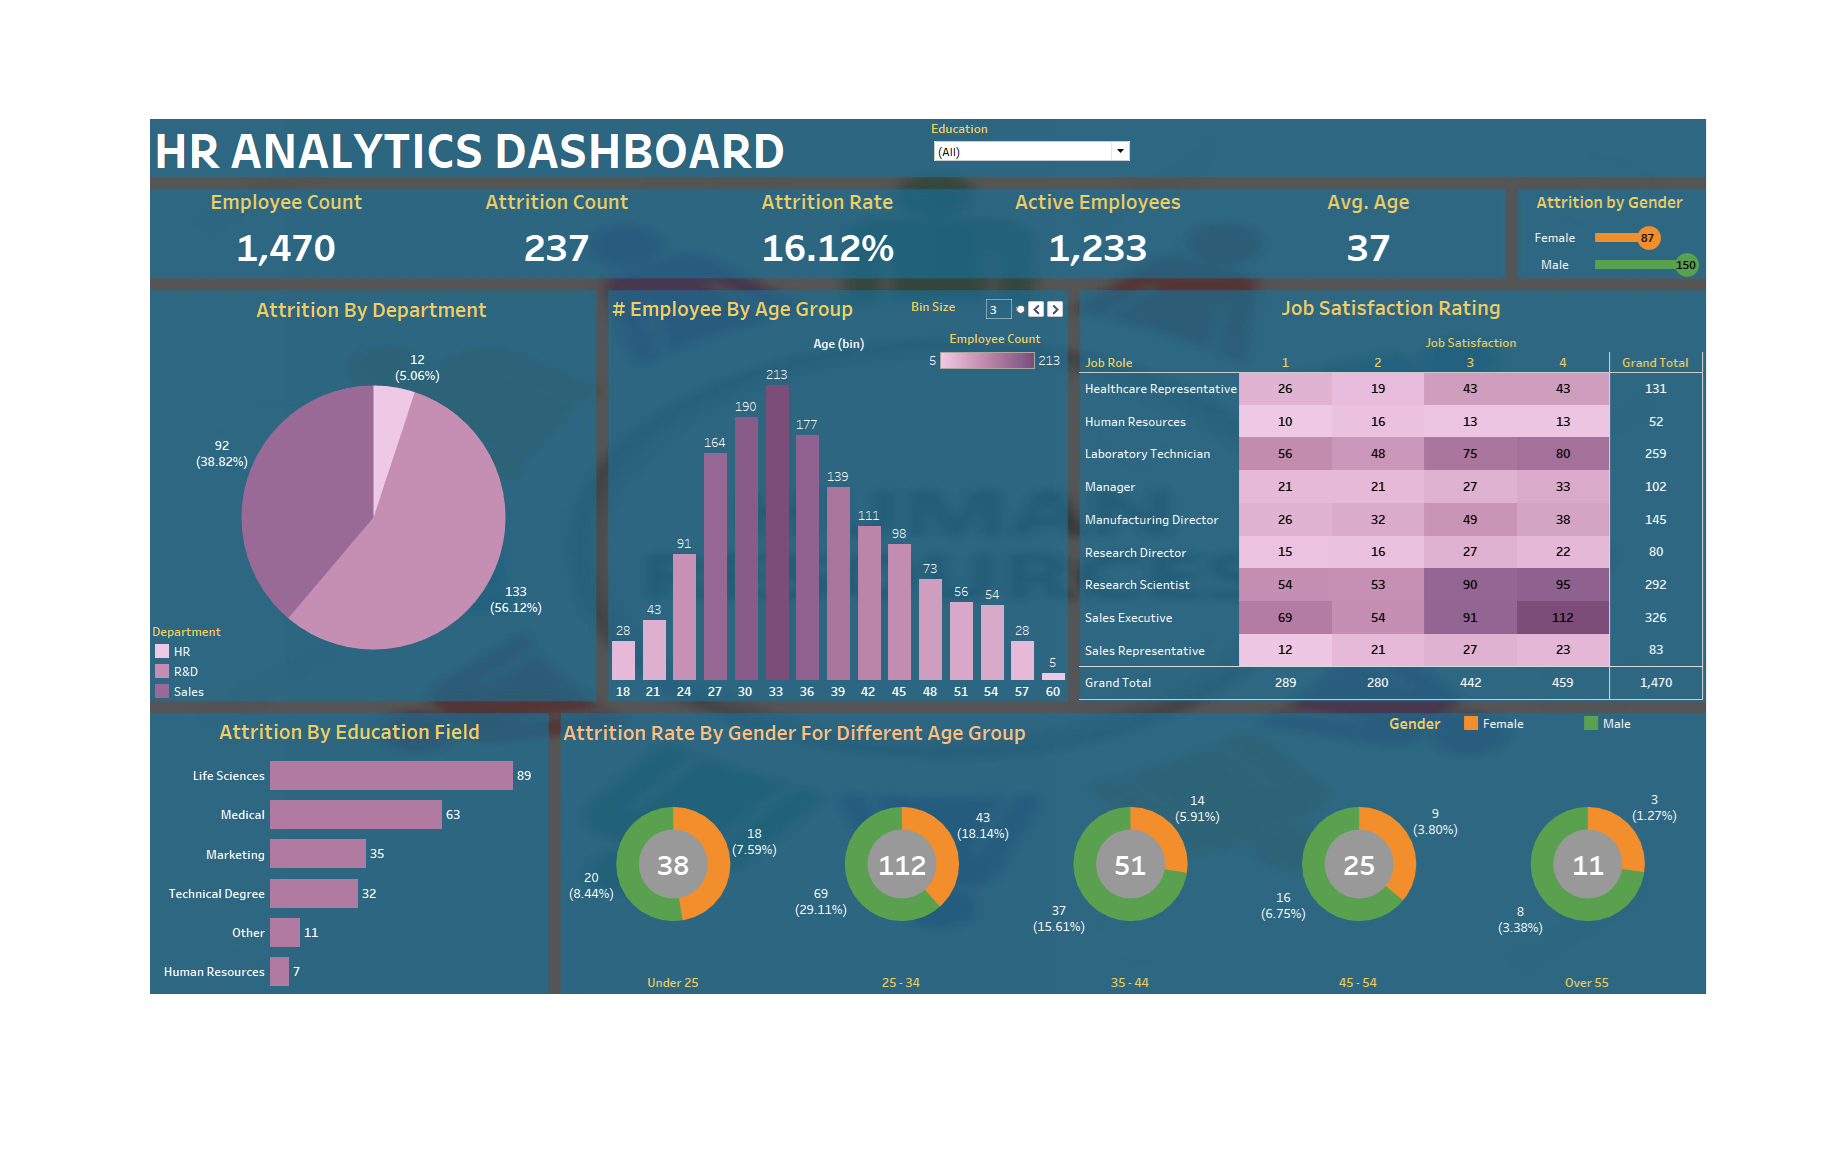

This screenshot's page, from the dashboard's own definition file:
{"tool":"tableau","page":{"name":"HR Analytics","canvas":[1580,900],"ordinal":0},"visuals":[{"type":"image","param":"Image/back.jpg","box":[8,8,1564,884]},{"type":"text","box":[13,13,1552,56]},{"type":"filter","title":"Attrition Rate By Gender For Different Age Group","param":"[federated.1b6zum91q9b2ft1endw5707fnzhr].[none:Education:nk]","box":[793,13,202,49]},{"type":"worksheet","title":"Attrition by Gender","mark":"Automatic","rows":["Gender"],"cols":["Calculation_1042864836679319552","Calculation_1042864836679319552"],"box":[1377,80,189,91]},{"type":"worksheet","title":"KPI","mark":"Automatic","box":[13,82,1353,89]},{"type":"worksheet","title":"Job Satisfaction Rating","mark":"Square","rows":["Job Role"],"cols":["Job Satisfaction"],"box":[941,182,624,411]},{"type":"worksheet","title":"# Employee By Age Group","mark":"Automatic","rows":["Employee Count"],"cols":["Age (bin)"],"box":[470,183,461,411]},{"type":"worksheet","title":"Dept Atrition","mark":"Pie","box":[14,184,443,410]},{"type":"parameter","param":"[Parameters].[Parameter 1]","box":[773,189,155,33]},{"type":"legend","title":"# Employee By Age Group","param":"[federated.1b6zum91q9b2ft1endw5707fnzhr].[sum:Employee Count:qk]","box":[787,223,140,43]},{"type":"legend","title":"Dept Atrition","param":"[federated.1b6zum91q9b2ft1endw5707fnzhr].[none:Department:nk]","box":[14,516,140,78]},{"type":"worksheet","title":"Attrition By Education Field","mark":"Automatic","rows":["Education Field"],"cols":["Calculation_1042864836679319552"],"box":[12,606,399,278]},{"type":"legend","title":"Attrition Rate By Gender For Different Age Group","param":"[federated.1b6zum91q9b2ft1endw5707fnzhr].[none:Gender:nk]","box":[1251,606,315,23]},{"type":"worksheet","title":"Attrition Rate By Gender For Different Age Group","mark":"Pie","rows":["Calculation_1042864836716916740","Calculation_1042864836716916740"],"cols":["CF_age band"],"box":[421,607,1143,278]}]}

Visuals, with their boxes on the page's 1580x900 design canvas (x1, y1, x2, y2). These are canvas units, not pixel positions in the 1843x1152 screenshot, which may show the page scaled, cropped or inside an application window:
image: <bbox>8, 8, 1572, 892</bbox>
text: <bbox>13, 13, 1565, 69</bbox>
"Attrition Rate By Gender For Different Age Group" filter: <bbox>793, 13, 995, 62</bbox>
"Attrition by Gender" worksheet: <bbox>1377, 80, 1566, 171</bbox>
"KPI" worksheet: <bbox>13, 82, 1366, 171</bbox>
"Job Satisfaction Rating" worksheet (Square marks): <bbox>941, 182, 1565, 593</bbox>
"# Employee By Age Group" worksheet: <bbox>470, 183, 931, 594</bbox>
"Dept Atrition" worksheet (Pie marks): <bbox>14, 184, 457, 594</bbox>
parameter: <bbox>773, 189, 928, 222</bbox>
"# Employee By Age Group" legend: <bbox>787, 223, 927, 266</bbox>
"Dept Atrition" legend: <bbox>14, 516, 154, 594</bbox>
"Attrition By Education Field" worksheet: <bbox>12, 606, 411, 884</bbox>
"Attrition Rate By Gender For Different Age Group" legend: <bbox>1251, 606, 1566, 629</bbox>
"Attrition Rate By Gender For Different Age Group" worksheet (Pie marks): <bbox>421, 607, 1564, 885</bbox>
